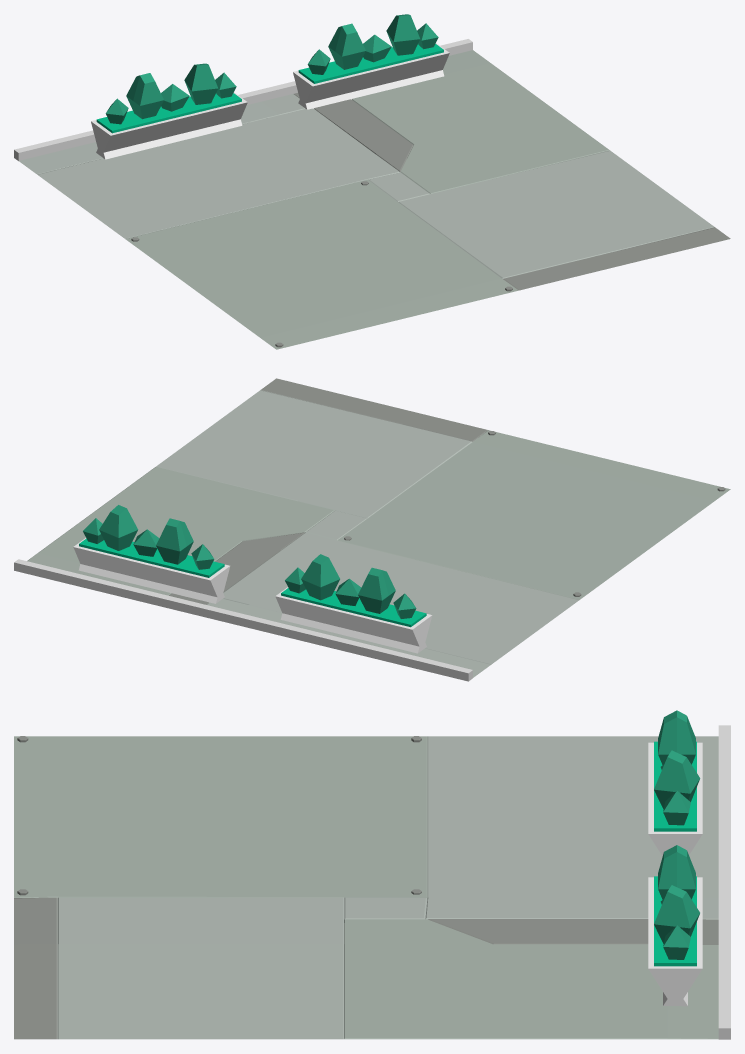
The picture shows the model from 3 angles, top to bottom: view 1: azimuth 30°, elevation 25°; view 2: azimuth 150°, elevation 25°; view 3: azimuth 270°, elevation 25°; orthographic projection. The views are drawn at different scales.
Visible parts, largest first — view 1: Scifi_Panel_04_Plaza014_group4.024, base_pot.012, base_pot.013, Cube.927_Cube.1051; view 2: Scifi_Panel_04_Plaza014_group4.024, base_pot.012, base_pot.013, Cube.927_Cube.1051; view 3: Scifi_Panel_04_Plaza014_group4.024, base_pot.013, base_pot.012, Cube.927_Cube.1051.
Part boxes in pixels (x1,y1,x2,y2): Scifi_Panel_04_Plaza014_group4.024: (19,50,730,349); base_pot.012: (91,63,247,159); base_pot.013: (293,14,449,109); Cube.927_Cube.1051: (14,39,472,160); Scifi_Panel_04_Plaza014_group4.024: (27,378,730,677); base_pot.012: (275,554,432,653); base_pot.013: (73,505,230,603); Cube.927_Cube.1051: (14,559,472,681); Scifi_Panel_04_Plaza014_group4.024: (14,736,718,1039); base_pot.013: (648,845,702,1006); base_pot.012: (648,710,702,855); Cube.927_Cube.1051: (718,725,730,1039).
Size of the model in its own units: 10 by 1.51 by 10.
